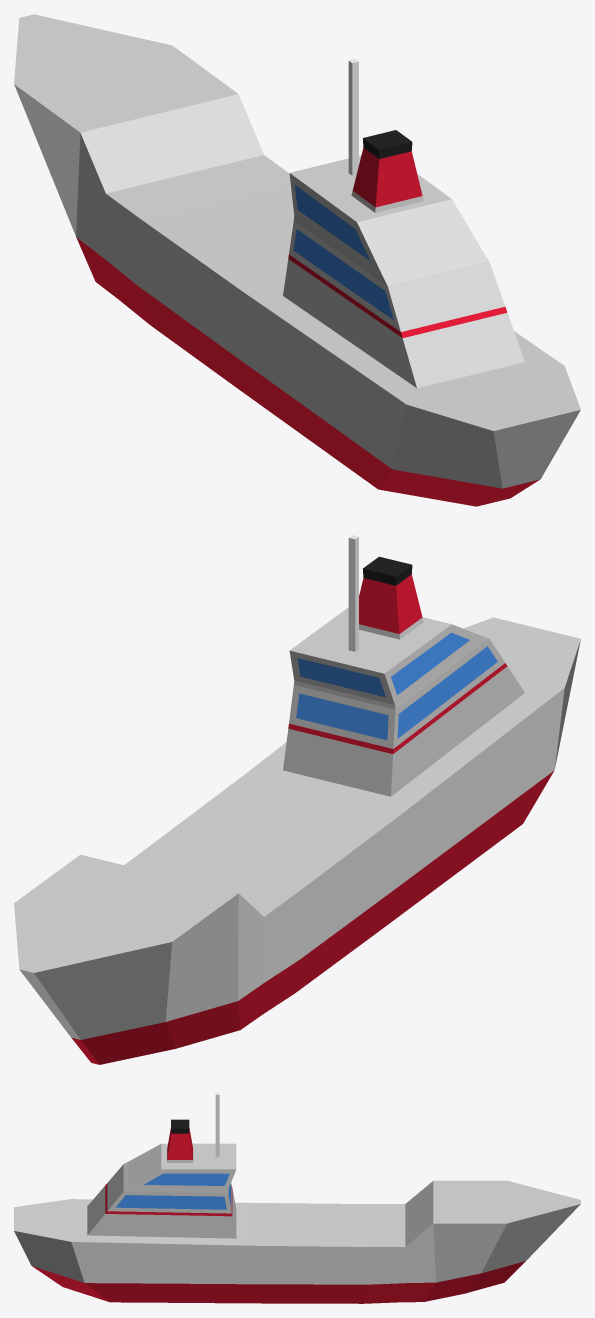
Rendered from boat.glb.
3 views of the same model, one above another, from view 1: azimuth 30°, elevation 25°; view 2: azimuth 150°, elevation 25°; view 3: azimuth 270°, elevation 25° (orthographic). The views are drawn at different scales.
Parts seen in each view (by area): view 1: Cube; view 2: Cube; view 3: Cube.
Boxes of the visible parts, box(x1,y1,x2,y2) form: Cube: box(14, 14, 580, 506); Cube: box(14, 535, 580, 1064); Cube: box(14, 1093, 580, 1303).
Bounding box in the file's own units: 2.92 × 5.9 × 15.95.
